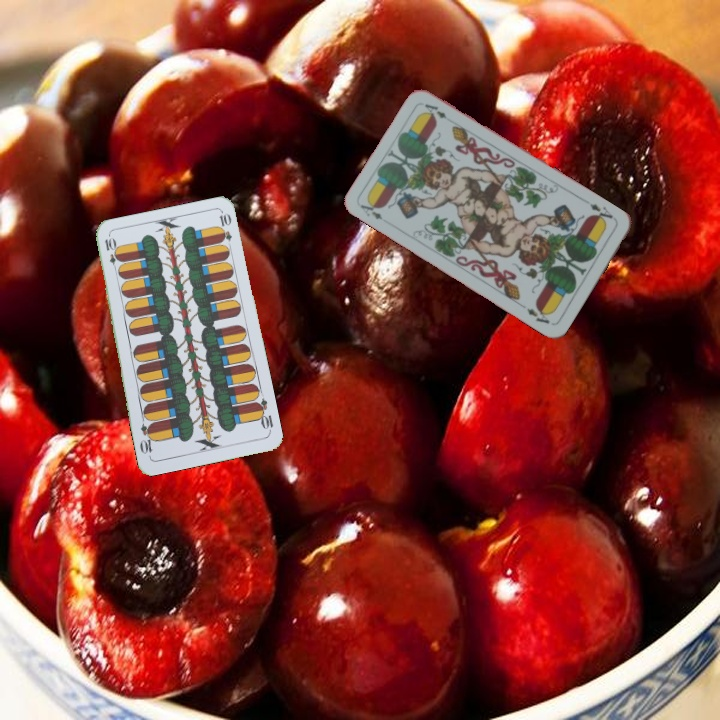E10: (251, 395, 276, 435), (101, 234, 121, 274)
EA: (582, 196, 618, 227), (356, 197, 385, 222)
